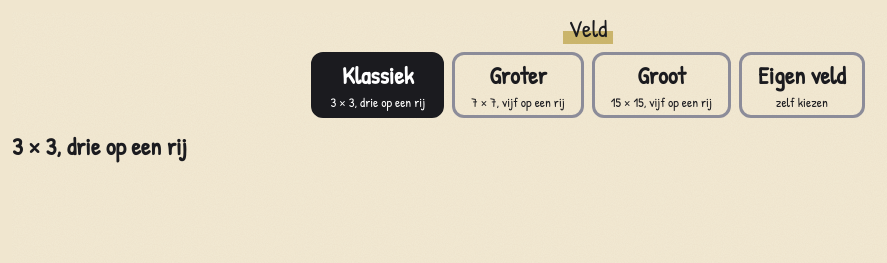
Test: FieldPicker › marks the row that makes a good game, and follows that suggestion while it is the one in use
Click the button "Eigen veld zelf kiezen".
click(802, 85)  # box [739, 52, 865, 118]
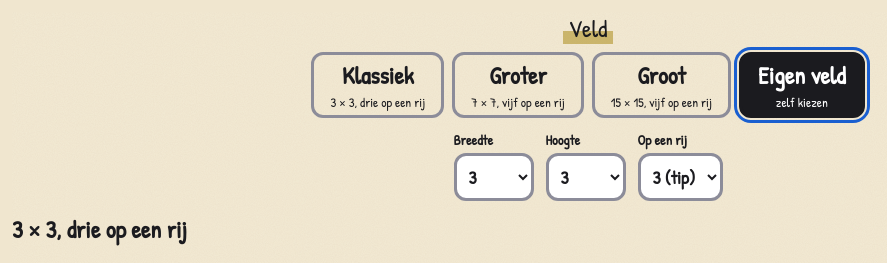
Select "15" in the dropdown labelled "Breedte" at (494, 177), box [454, 153, 534, 201]
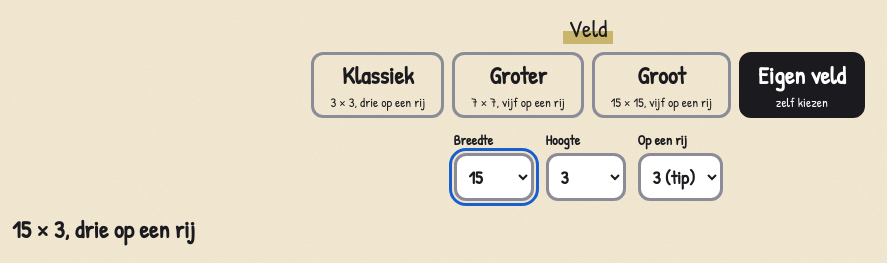
Select "15" in the dropdown labelled "Hoogte" at (586, 177), box [546, 153, 626, 201]
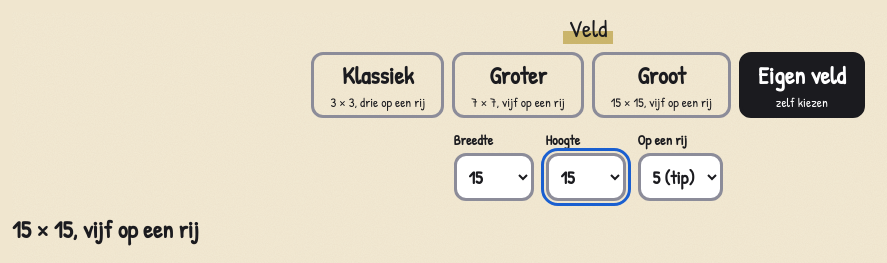
Expected: the dropdown labelled "Op een rij" shows "5 (tip)", [638, 153, 722, 201]
Select "19" in the dropdown labelled "Breedte" at (494, 177), box [454, 153, 534, 201]
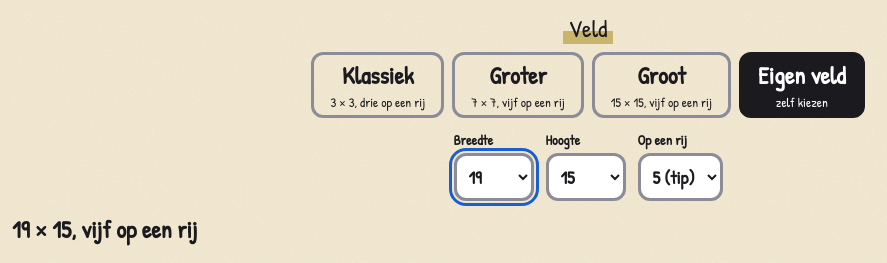
Select "19" in the dropdown labelled "Hoogte" at (586, 177), box [546, 153, 626, 201]
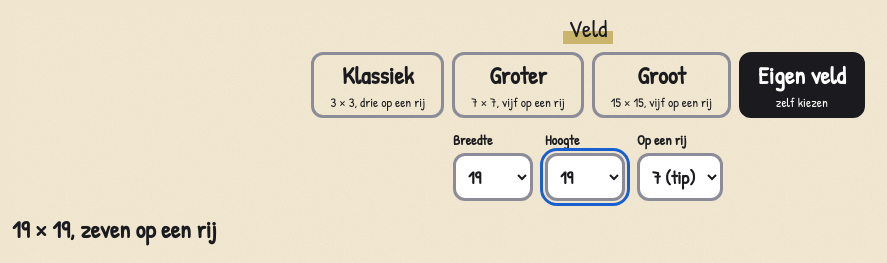
Expected: the dropdown labelled "Op een rij" shows "7 (tip)", [637, 153, 723, 201]
